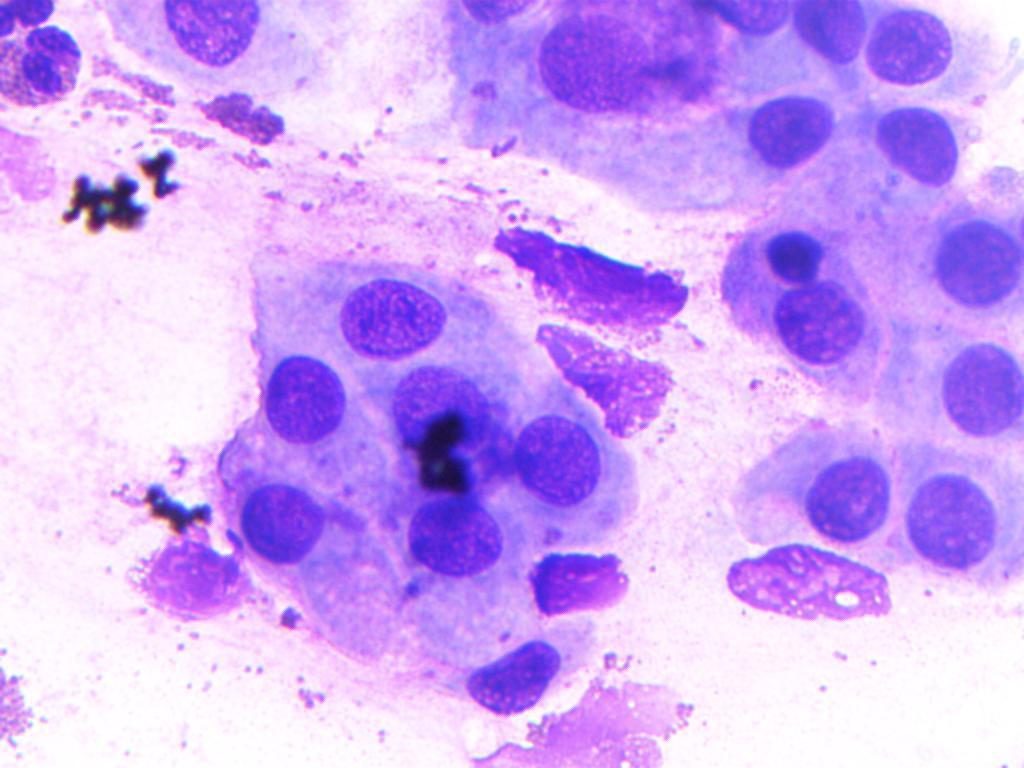artifact: (450, 658, 712, 768), (479, 212, 709, 326), (526, 314, 683, 450), (126, 520, 263, 644), (719, 540, 899, 627), (59, 159, 197, 239), (527, 548, 648, 621), (1, 638, 53, 767), (412, 407, 484, 496), (137, 480, 220, 534)
eosinophil: (2, 24, 88, 107), (0, 0, 69, 39)
epithelial: (541, 3, 739, 131), (898, 453, 1016, 590), (898, 311, 1023, 436), (318, 269, 471, 362), (513, 385, 610, 513), (899, 203, 1024, 302), (434, 627, 562, 720), (862, 91, 972, 196), (397, 493, 503, 598), (731, 86, 848, 174), (761, 282, 868, 377), (800, 442, 885, 543), (263, 354, 349, 447), (241, 473, 324, 567), (867, 4, 951, 88), (158, 4, 267, 67), (756, 221, 856, 283), (791, 0, 868, 66)
